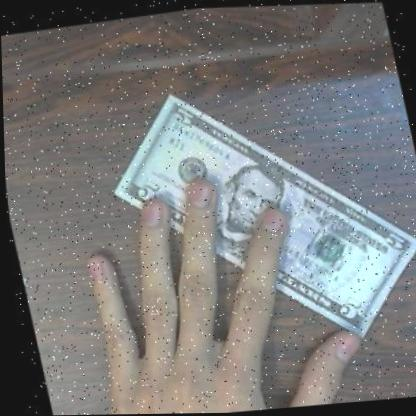five-front: (88, 43, 416, 382)
